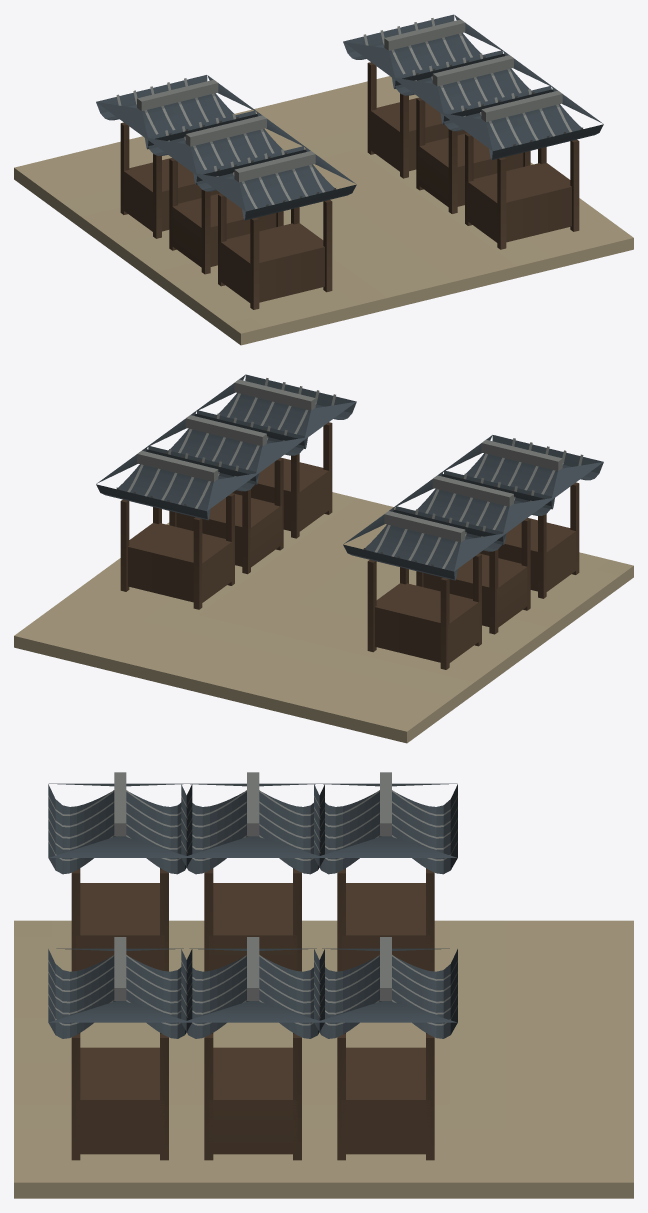
File: market-2.glb
The picture shows the model from 3 angles, top to bottom: view 1: azimuth 30°, elevation 25°; view 2: azimuth 150°, elevation 25°; view 3: azimuth 270°, elevation 25°; orthographic projection. The views are drawn at different scales.
Parts seen in each view (by area): view 1: market 2 4, market 2 3, market 2 2, market 2 5; view 2: market 2 4, market 2 3, market 2 2, market 2 5; view 3: market 2 4, market 2 3, market 2 2, market 2 5.
Part boxes in pixels (x1=…): market 2 4: x1=14, y1=76, x2=633, y2=345; market 2 3: x1=120, y1=62, x2=579, y2=309; market 2 2: x1=96, y1=14, x2=603, y2=220; market 2 5: x1=116, y1=18, x2=582, y2=208; market 2 4: x1=14, y1=492, x2=633, y2=743; market 2 3: x1=120, y1=422, x2=579, y2=669; market 2 2: x1=96, y1=374, x2=603, y2=580; market 2 5: x1=116, y1=378, x2=583, y2=568; market 2 4: x1=14, y1=920, x2=633, y2=1198; market 2 3: x1=71, y1=868, x2=434, y2=1160; market 2 2: x1=48, y1=783, x2=457, y2=1038; market 2 5: x1=48, y1=772, x2=457, y2=1025.
Bounding box in the file's own units: 2.8 × 0.935 × 2.8.
